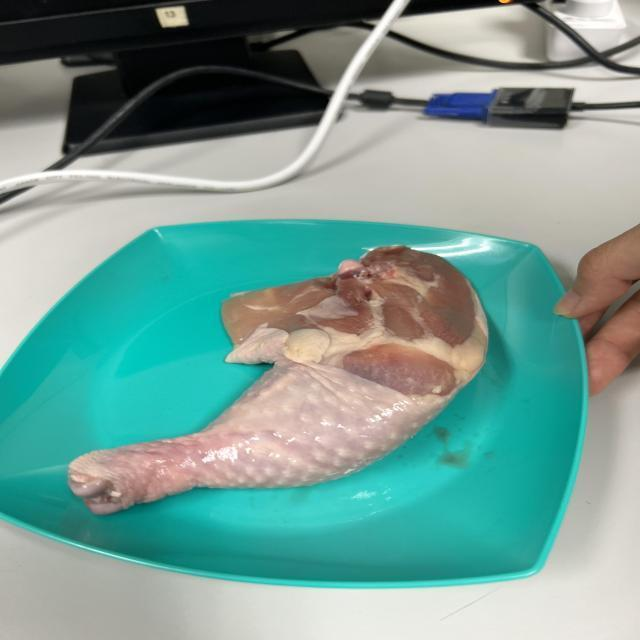quater: (68, 238, 492, 528)
